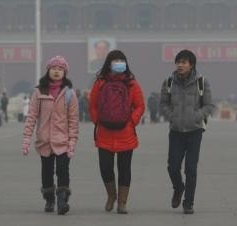person: (21, 53, 83, 217), (89, 47, 146, 215), (159, 49, 217, 214), (89, 40, 112, 73), (148, 92, 159, 123), (1, 91, 10, 124), (81, 91, 90, 122), (75, 88, 82, 121), (23, 96, 30, 122)
